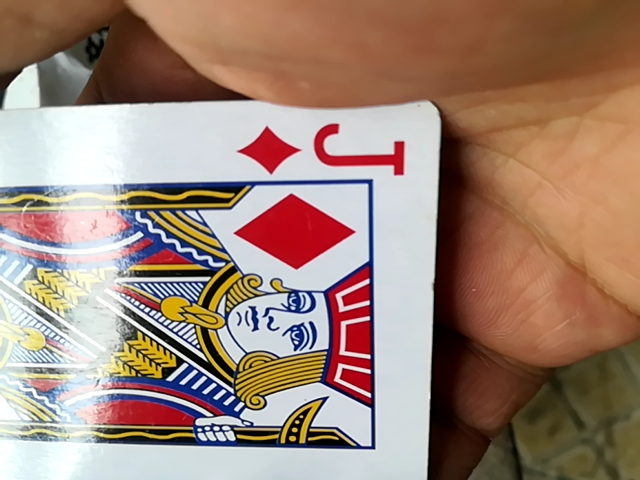fk j: (3, 96, 444, 480)
